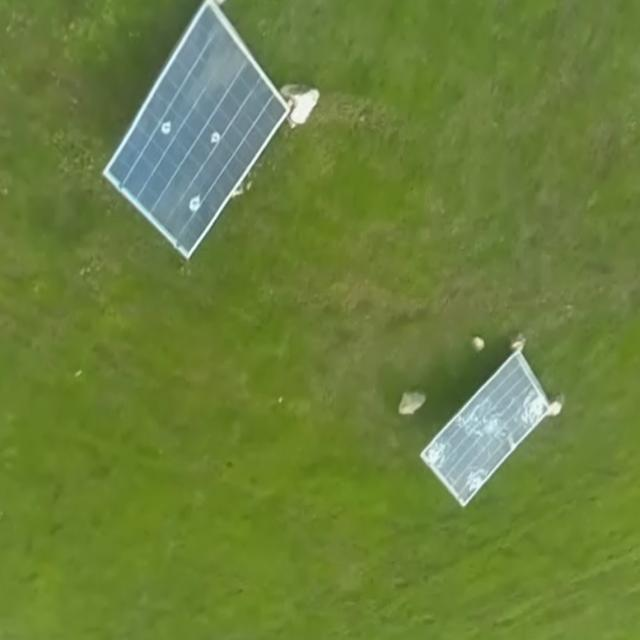Bird-drop: (186, 192, 204, 215), (157, 120, 176, 134), (209, 131, 223, 145)
Physical-damage: (460, 403, 500, 440), (514, 385, 544, 424), (426, 441, 451, 472), (460, 471, 487, 495)
